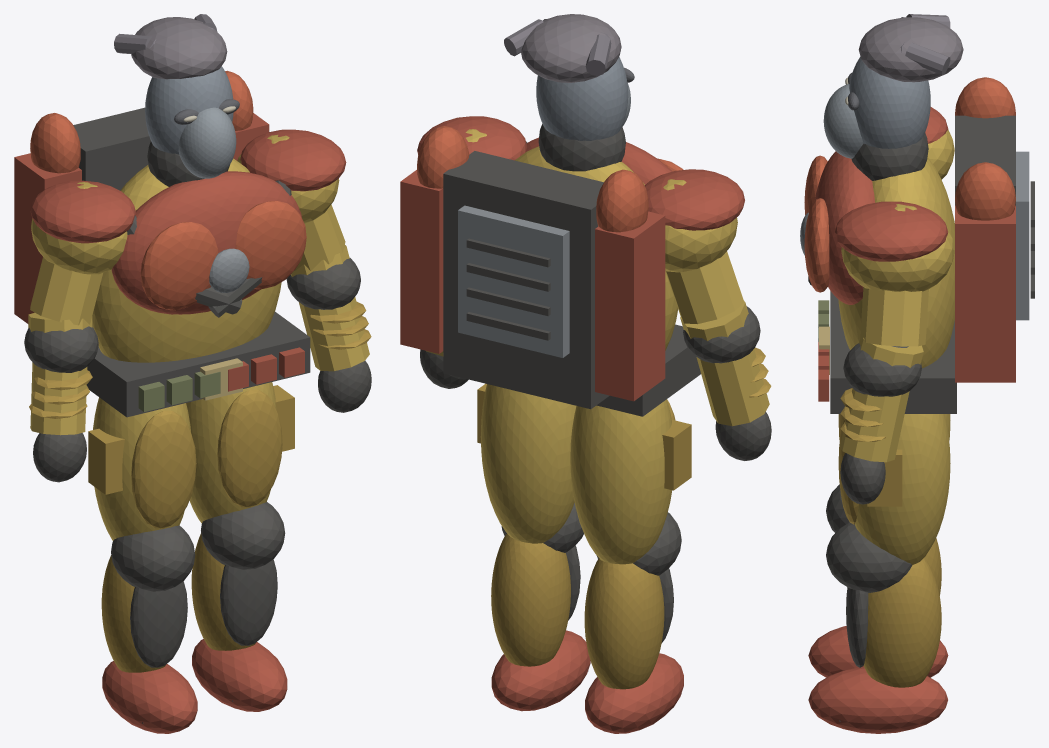
Rendered from crew_alien_prototype.glb.
3 views of the same model, side by side, from view 1: azimuth 30°, elevation 25°; view 2: azimuth 150°, elevation 25°; view 3: azimuth 270°, elevation 25° (orthographic). The views are drawn at different scales.
Parts seen in each view (by area): view 1: torso_suit, upper_armour, belt, thigh_panel_1, thigh_panel_-1, chest_plate_-1, shoulder_cap_-1, boot_-1, boot_1, shoulder_cap_1, chest_plate_1, crest (+38 smaller); view 2: backpack_main, thigh_-1, thigh_1, backpack_side_-1, backpack_panel, shin_-1, shin_1, backpack_side_1, head, shoulder_cap_-1, upper_arm_-1, crest (+24 smaller); view 3: backpack_side_1, thigh_1, shin_1, boot_1, torso_suit, shoulder_cap_1, head, upper_arm_1, crest, belt, upper_armour, knee_1 (+23 smaller).
Boxes of the visible parts, x1=… form: torso_suit: x1=92, y1=158, x2=281, y2=362; upper_armour: x1=111, y1=171, x2=301, y2=314; belt: x1=86, y1=311, x2=310, y2=417; thigh_panel_1: x1=217, y1=389, x2=282, y2=507; thigh_panel_-1: x1=131, y1=410, x2=196, y2=528; chest_plate_-1: x1=140, y1=222, x2=217, y2=310; shoulder_cap_-1: x1=30, y1=180, x2=135, y2=243; boot_-1: x1=102, y1=661, x2=197, y2=733; boot_1: x1=192, y1=639, x2=287, y2=711; shoulder_cap_1: x1=240, y1=129, x2=346, y2=191; chest_plate_1: x1=235, y1=201, x2=306, y2=289; crest: x1=131, y1=17, x2=227, y2=79; backpack_main: x1=443, y1=151, x2=609, y2=409; thigh_-1: x1=570, y1=399, x2=672, y2=564; thigh_1: x1=480, y1=384, x2=576, y2=543; backpack_side_-1: x1=595, y1=211, x2=665, y2=401; backpack_panel: x1=458, y1=205, x2=569, y2=357; shin_-1: x1=584, y1=558, x2=664, y2=689; shin_1: x1=491, y1=533, x2=570, y2=666; backpack_side_1: x1=400, y1=170, x2=443, y2=353; head: x1=536, y1=57, x2=628, y2=140; shoulder_cap_-1: x1=644, y1=169, x2=744, y2=230; upper_arm_-1: x1=665, y1=251, x2=748, y2=341; crest: x1=521, y1=14, x2=621, y2=82; backpack_side_1: x1=955, y1=205, x2=1015, y2=382; thigh_1: x1=855, y1=414, x2=950, y2=564; shin_1: x1=863, y1=557, x2=941, y2=687; boot_1: x1=808, y1=667, x2=947, y2=733; torso_suit: x1=838, y1=157, x2=954, y2=368; shoulder_cap_1: x1=834, y1=201, x2=948, y2=261; head: x1=849, y1=56, x2=930, y2=148; upper_arm_1: x1=859, y1=287, x2=928, y2=367; crest: x1=858, y1=17, x2=963, y2=82; belt: x1=830, y1=291, x2=956, y2=413; upper_armour: x1=814, y1=151, x2=874, y2=304; knee_1: x1=826, y1=522, x2=912, y2=592.
Bounding box in the file's own units: 0.898 × 1.73 × 0.537.
